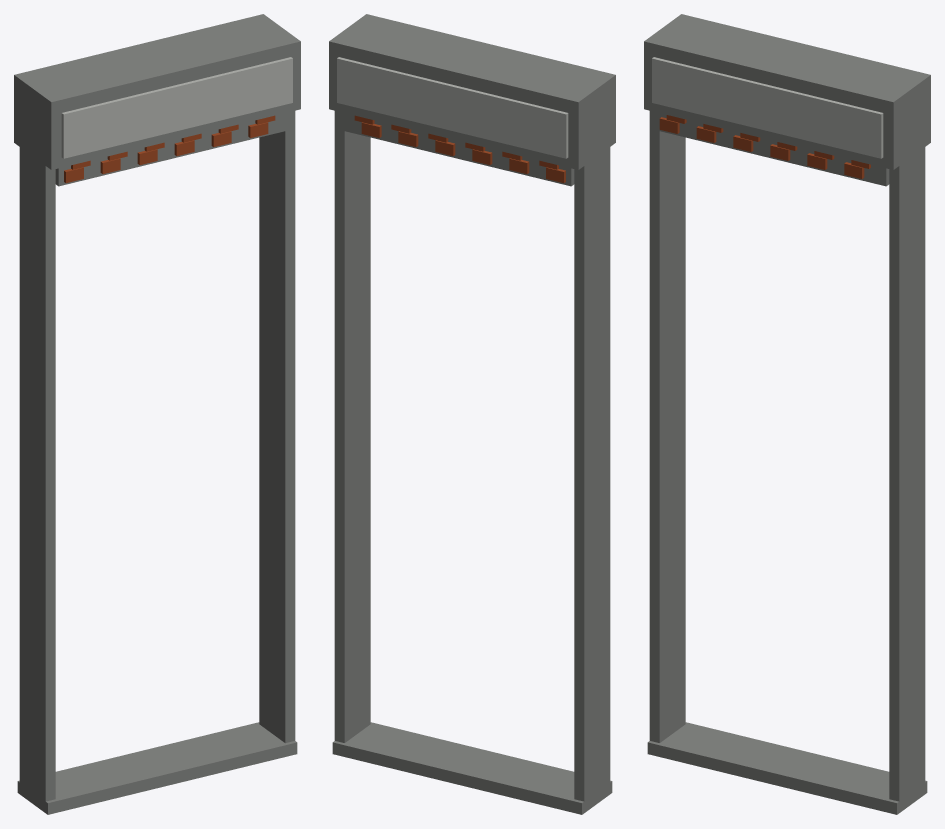
Rendered from CMU3DAlmayerRollingShutterOpen.glb.
The picture shows the model from 3 angles, left to right: view 1: azimuth 30°, elevation 25°; view 2: azimuth 150°, elevation 25°; view 3: azimuth 330°, elevation 25°; orthographic projection.
Visible parts, largest first — view 1: shutter guide (×2), upper roll housing, headbox face, threshold, raised bottom bar; view 2: shutter guide (×2), upper roll housing, headbox face back, threshold, raised bottom bar; view 3: shutter guide (×2), upper roll housing, headbox face, threshold, raised bottom bar.
Part boxes in pixels (x1=…): shutter guide (×2): x1=19, y1=103, x2=295, y2=812; upper roll housing: x1=14, y1=14, x2=300, y2=169; headbox face: x1=61, y1=57, x2=292, y2=158; threshold: x1=17, y1=722, x2=297, y2=814; raised bottom bar: x1=55, y1=112, x2=287, y2=186; shutter guide (×2): x1=334, y1=109, x2=610, y2=812; upper roll housing: x1=329, y1=14, x2=615, y2=169; headbox face back: x1=337, y1=57, x2=568, y2=158; threshold: x1=332, y1=722, x2=612, y2=814; raised bottom bar: x1=342, y1=112, x2=574, y2=186; shutter guide (×2): x1=649, y1=106, x2=925, y2=812; upper roll housing: x1=644, y1=14, x2=930, y2=169; headbox face: x1=652, y1=57, x2=883, y2=158; threshold: x1=647, y1=722, x2=927, y2=814; raised bottom bar: x1=657, y1=112, x2=889, y2=186.
Size of the model in its own units: 1 by 2.74 by 0.29.
